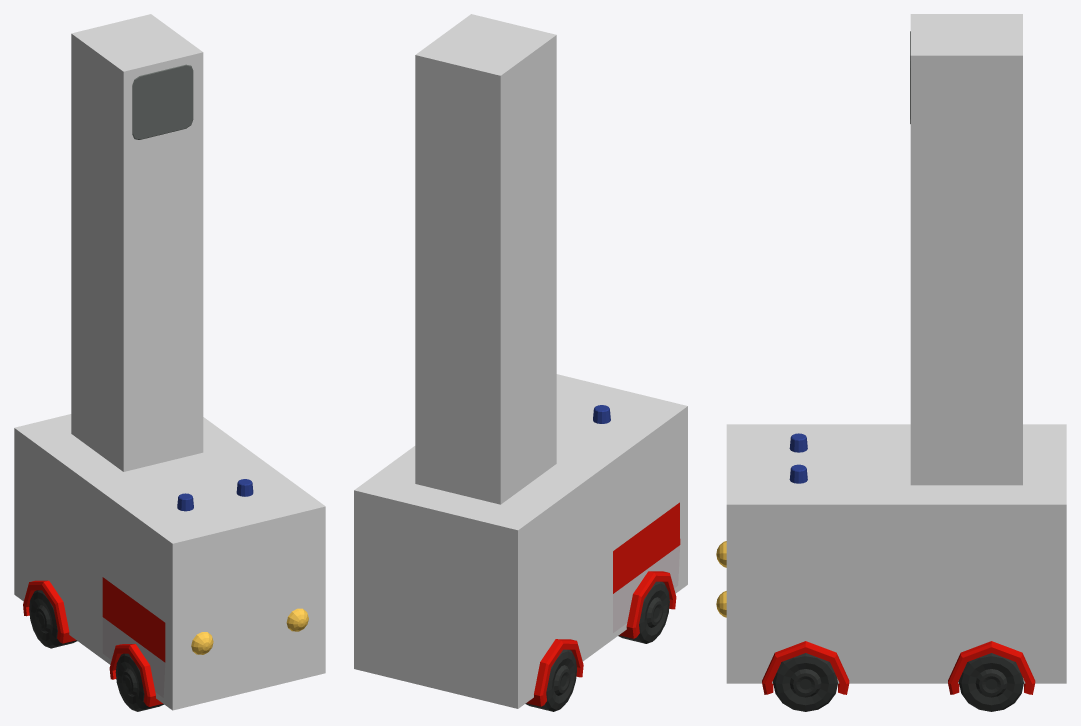
File: Firetruck.fbx
The picture shows the model from 3 angles, left to right: view 1: azimuth 30°, elevation 25°; view 2: azimuth 150°, elevation 25°; view 3: azimuth 270°, elevation 25°; orthographic projection. The views are drawn at different scales.
Visible parts, largest first — view 1: Fcoll 1, Fcoll 2, Firetruck; view 2: Fcoll 1, Fcoll 2, Firetruck; view 3: Fcoll 1, Fcoll 2, Firetruck.
Boxes of the visible parts, x1=… form: Fcoll 1: x1=14, y1=414, x2=325, y2=710; Fcoll 2: x1=71, y1=14, x2=203, y2=471; Firetruck: x1=23, y1=64, x2=308, y2=711; Fcoll 1: x1=354, y1=374, x2=687, y2=708; Fcoll 2: x1=415, y1=14, x2=556, y2=504; Firetruck: x1=525, y1=405, x2=680, y2=711; Fcoll 1: x1=726, y1=424, x2=1066, y2=683; Fcoll 2: x1=910, y1=14, x2=1022, y2=485; Firetruck: x1=716, y1=31, x2=1035, y2=711.
Size of the model in its own units: 220 by 739 by 369.
